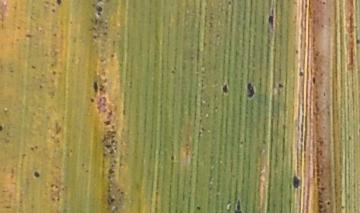tarspot: (243, 78, 257, 101), (266, 9, 276, 30), (290, 174, 301, 190), (219, 81, 230, 95), (95, 4, 105, 19), (29, 169, 41, 181), (105, 194, 117, 206), (233, 199, 243, 213), (275, 80, 285, 92), (310, 74, 319, 87), (93, 78, 99, 95), (297, 69, 307, 78), (106, 166, 115, 175), (24, 32, 34, 40), (29, 63, 39, 71), (167, 155, 176, 163), (103, 119, 112, 127), (88, 95, 96, 104), (51, 68, 58, 78), (28, 144, 38, 151), (108, 51, 116, 59), (55, 1, 63, 8), (36, 83, 43, 91), (193, 206, 202, 211), (1, 123, 4, 133)
